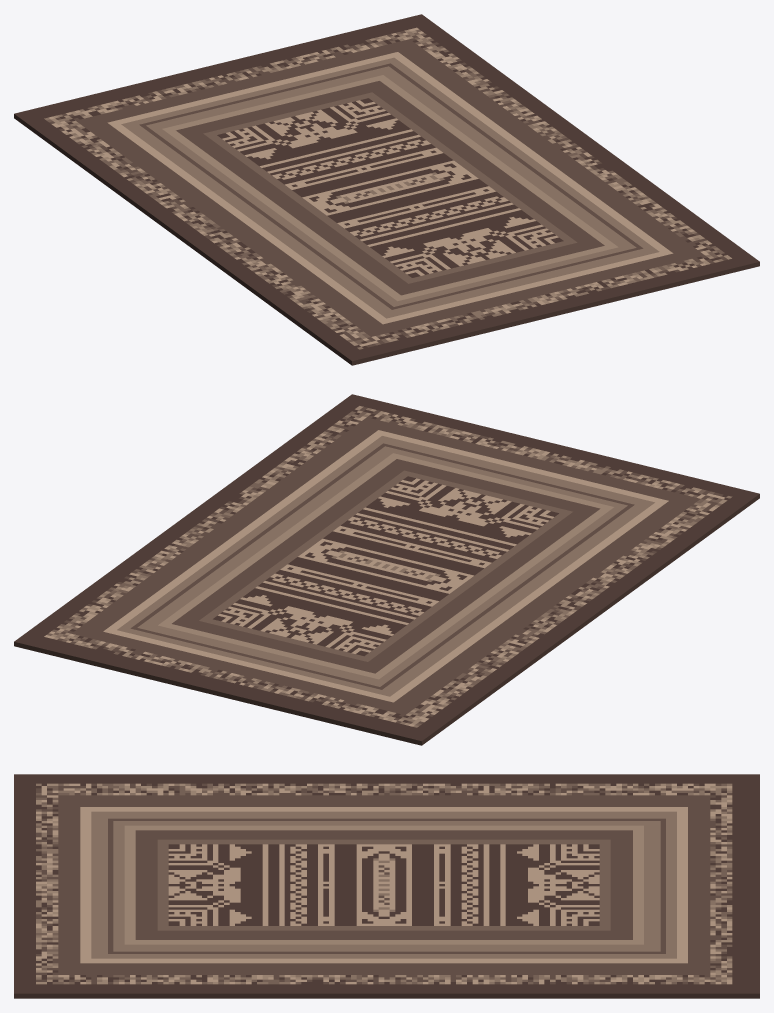
Rendered from Nha-3.obj.
3 views of the same model, one above another, from view 1: azimuth 30°, elevation 25°; view 2: azimuth 150°, elevation 25°; view 3: azimuth 270°, elevation 25° (orthographic). The views are drawn at different scales.
Bounding box in the file's own units: 9.4 × 0.1 × 13.5.
1 material, 1 textured.
